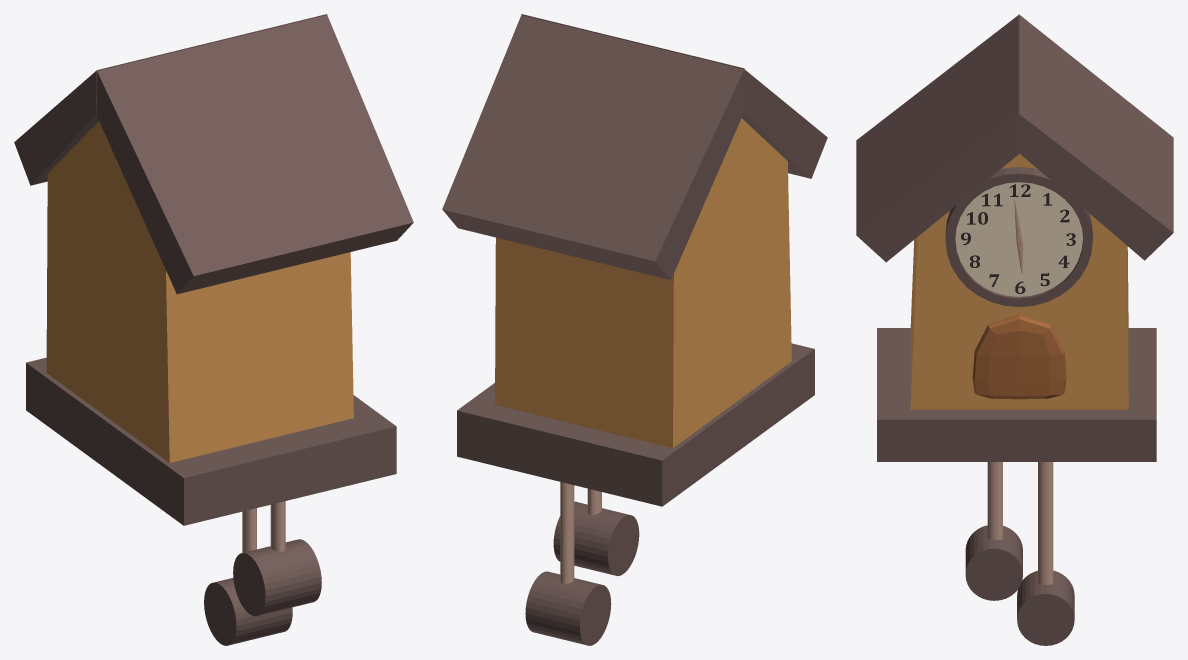
3 views of the same model, side by side, from view 1: azimuth 30°, elevation 25°; view 2: azimuth 150°, elevation 25°; view 3: azimuth 270°, elevation 25° (orthographic). The views are drawn at different scales.
Parts seen in each view (by area): view 1: corpo, telha2, base, ponto1, telha1, ponto2, cabo1, cabo 2; view 2: corpo, telha1, base, ponto2, telha2, ponto1, cabo 2; view 3: corpo, telha2, telha1, base, fundo, porta, contorno, ponto1, ponto2, cabo 2, cabo1.
Part boxes in pixels (box(x1,y1,x2,y2)): corpo: box(46, 121, 353, 462); telha2: box(96, 14, 413, 294); base: box(26, 357, 396, 525); ponto1: box(233, 539, 321, 616); telha1: box(14, 14, 327, 185); ponto2: box(204, 578, 292, 645); cabo1: box(270, 501, 285, 551); cabo 2: box(242, 508, 256, 552); corpo: box(495, 118, 791, 448); telha1: box(442, 14, 744, 279); base: box(457, 343, 814, 506); ponto2: box(525, 571, 611, 645); telha2: box(521, 14, 827, 178); ponto1: box(553, 501, 639, 576); cabo 2: box(560, 482, 574, 584); corpo: box(910, 153, 1128, 409); telha2: box(856, 14, 1019, 262); telha1: box(1018, 14, 1173, 260); base: box(877, 328, 1156, 461); fundo: box(955, 182, 1082, 296); porta: box(972, 314, 1066, 399); contorno: box(945, 167, 1092, 306); ponto1: box(965, 525, 1022, 600); ponto2: box(1017, 570, 1074, 645); cabo 2: box(1038, 462, 1053, 584); cabo1: box(987, 462, 1002, 539).
Bounding box in the file's own units: 137 × 350 × 184.
